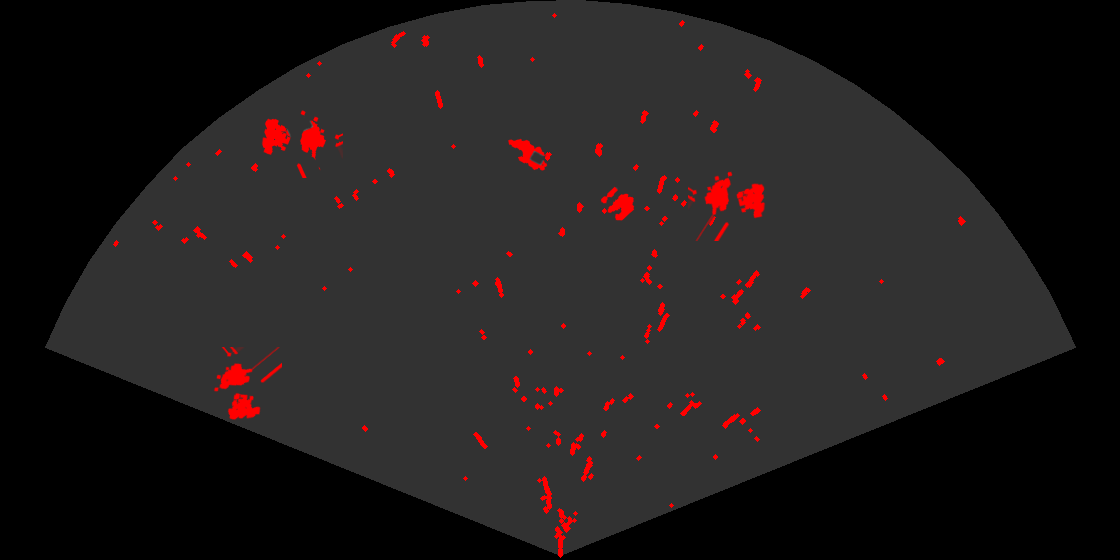AUV: (507, 137, 549, 172)
ball: (599, 185, 636, 222)
cage: (260, 109, 343, 178), (688, 170, 767, 241), (212, 347, 282, 422)
